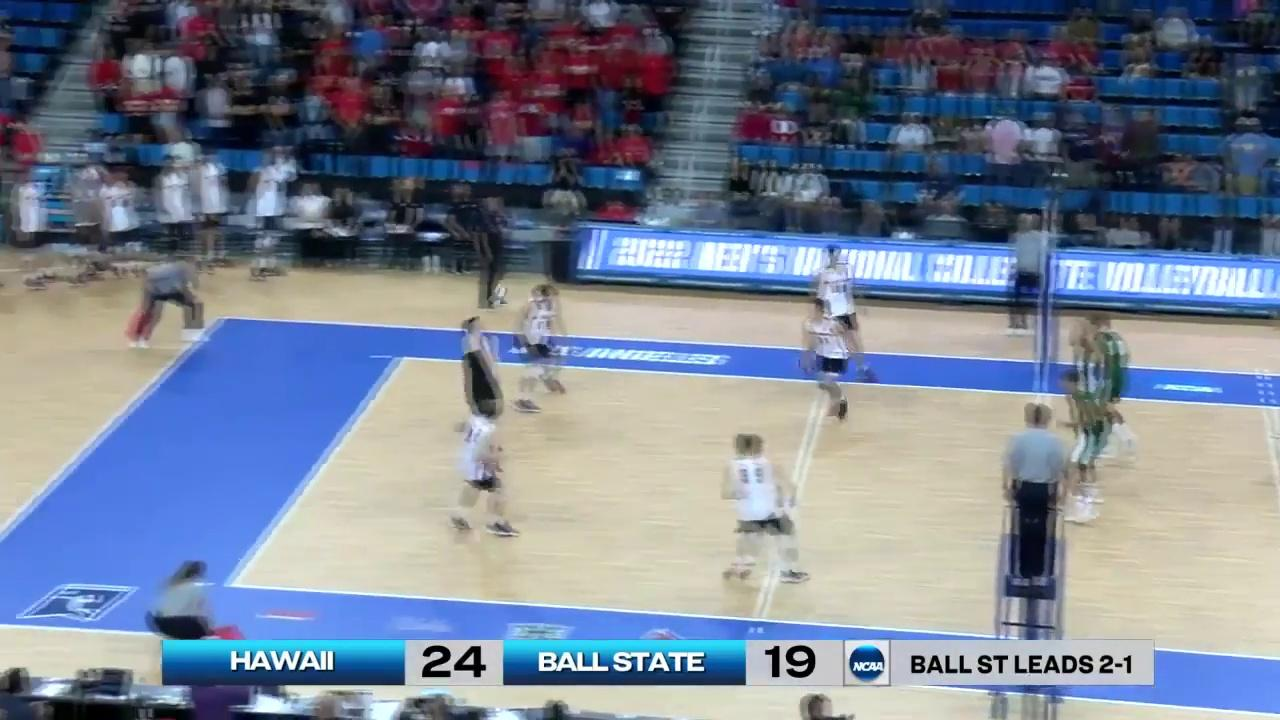player: (720, 434, 802, 582), (449, 399, 517, 537), (812, 247, 871, 377), (449, 315, 504, 453), (802, 298, 861, 426), (1062, 374, 1111, 524), (1087, 313, 1137, 452), (516, 284, 566, 416), (1069, 331, 1111, 469)
refree: (997, 400, 1068, 595), (149, 558, 245, 655), (129, 260, 209, 346), (1009, 213, 1056, 331)
